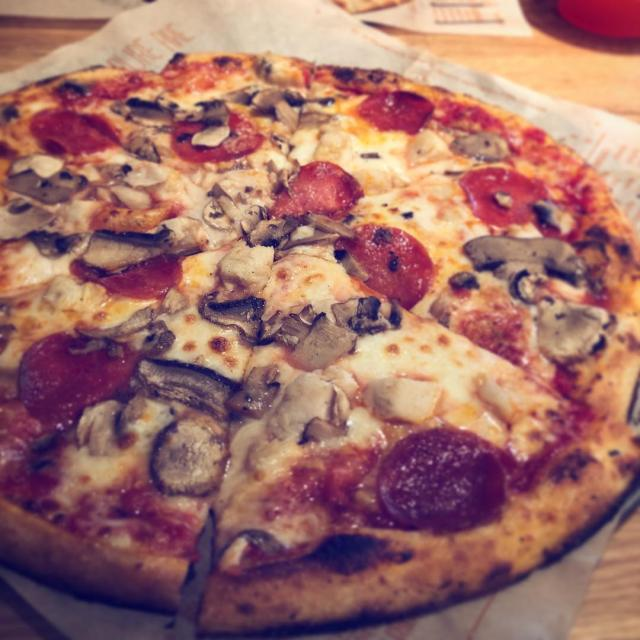mushrooms: (149, 413, 234, 499), (136, 356, 237, 424), (463, 232, 587, 285), (262, 303, 360, 368), (532, 295, 620, 365), (265, 378, 349, 450), (74, 306, 175, 356), (358, 371, 448, 427), (198, 291, 286, 343), (78, 231, 180, 274), (218, 237, 277, 301), (74, 400, 135, 457), (201, 184, 264, 234), (227, 364, 280, 417), (0, 199, 57, 246), (8, 170, 90, 202), (332, 299, 403, 334), (250, 86, 303, 129), (111, 98, 177, 130), (532, 193, 579, 236), (191, 100, 232, 148), (448, 131, 509, 162), (7, 154, 69, 181), (247, 214, 295, 248), (27, 229, 79, 260), (282, 224, 338, 250), (335, 246, 372, 284), (297, 214, 358, 235), (502, 275, 550, 301), (112, 184, 155, 213), (164, 97, 206, 122), (128, 134, 161, 165), (447, 269, 484, 293), (270, 132, 291, 151)
pepperoni: (374, 426, 515, 531), (17, 331, 141, 421), (333, 222, 433, 312), (270, 161, 366, 225), (461, 166, 554, 228), (68, 254, 189, 300), (171, 111, 267, 165), (32, 108, 125, 158), (359, 88, 437, 139)
pizza: (0, 51, 640, 638)
